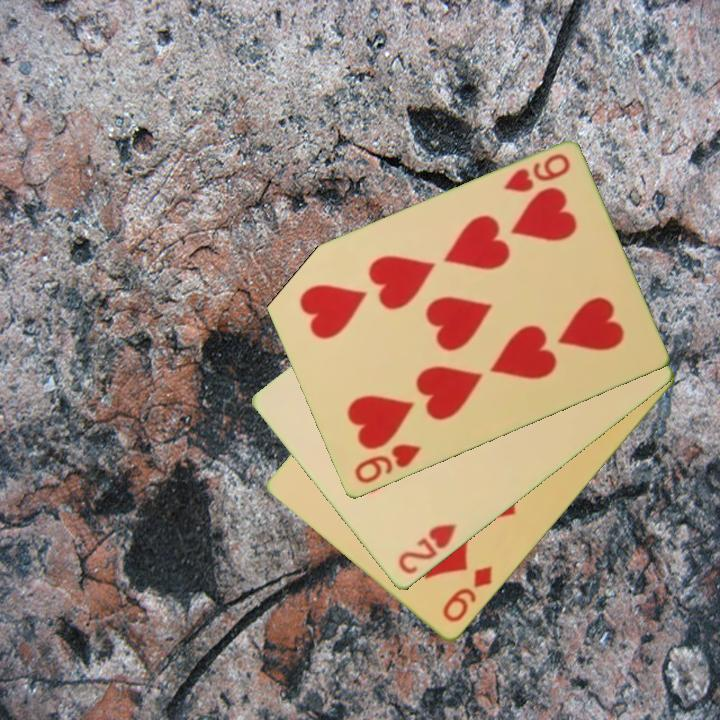2h: (394, 520, 460, 578)
9d: (438, 563, 496, 626)
9h: (350, 441, 425, 487), (499, 150, 573, 196)
